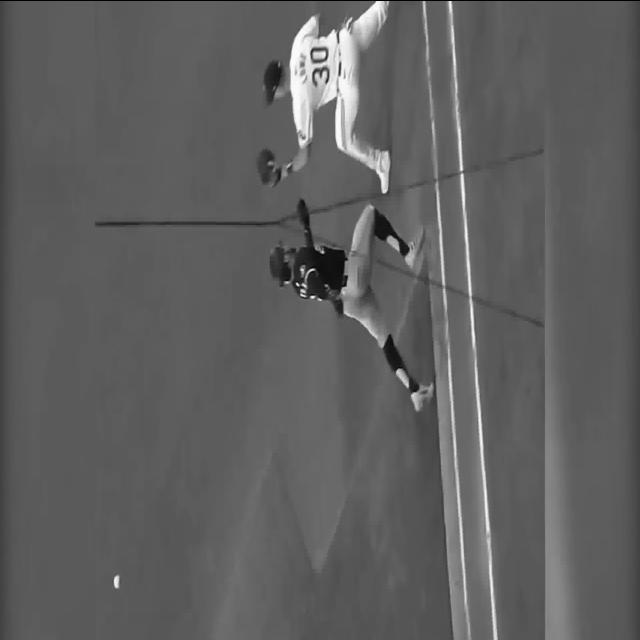baseball: (112, 574, 120, 589)
baseball_glove: (256, 148, 280, 188)
shoe: (404, 229, 424, 267), (410, 381, 434, 411), (376, 149, 391, 194)
